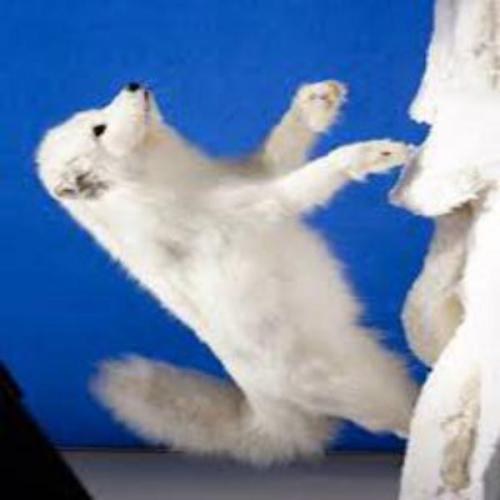arctic_fox-endangered: (34, 81, 420, 466)
